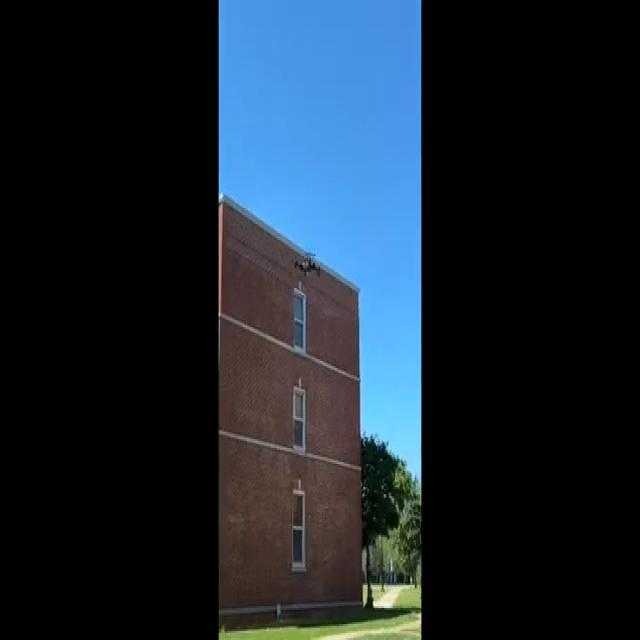drone: (290, 244, 322, 284)
